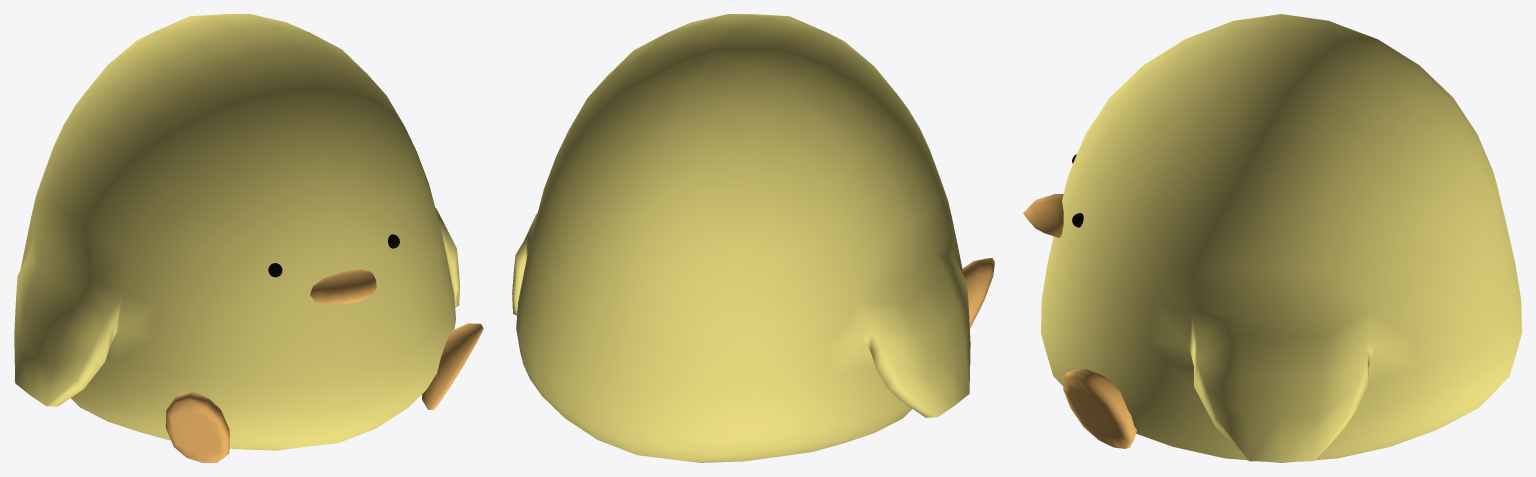
File: chick.glb
3 renders of one model, left to right at view 1: azimuth 30°, elevation 25°; view 2: azimuth 150°, elevation 25°; view 3: azimuth 270°, elevation 25°, orthographic. The views are drawn at different scales.
Visible parts, largest first — view 1: obj025, obj027, obj026; view 2: obj025, obj027; view 3: obj025, obj027, obj026.
Boxes of the visible parts, box(x1,y1,x2,y2) form: obj025: box(14, 14, 459, 450); obj027: box(165, 323, 483, 462); obj026: box(310, 269, 376, 304); obj025: box(512, 14, 970, 462); obj027: box(962, 258, 994, 327); obj025: box(1041, 14, 1521, 462); obj027: box(1063, 369, 1136, 448); obj026: box(1023, 194, 1063, 237).
Bounding box in the file's own units: 0.039 × 0.0333 × 0.0392.
